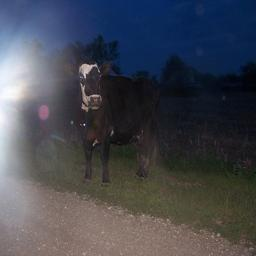cow: (149, 87, 256, 256)
